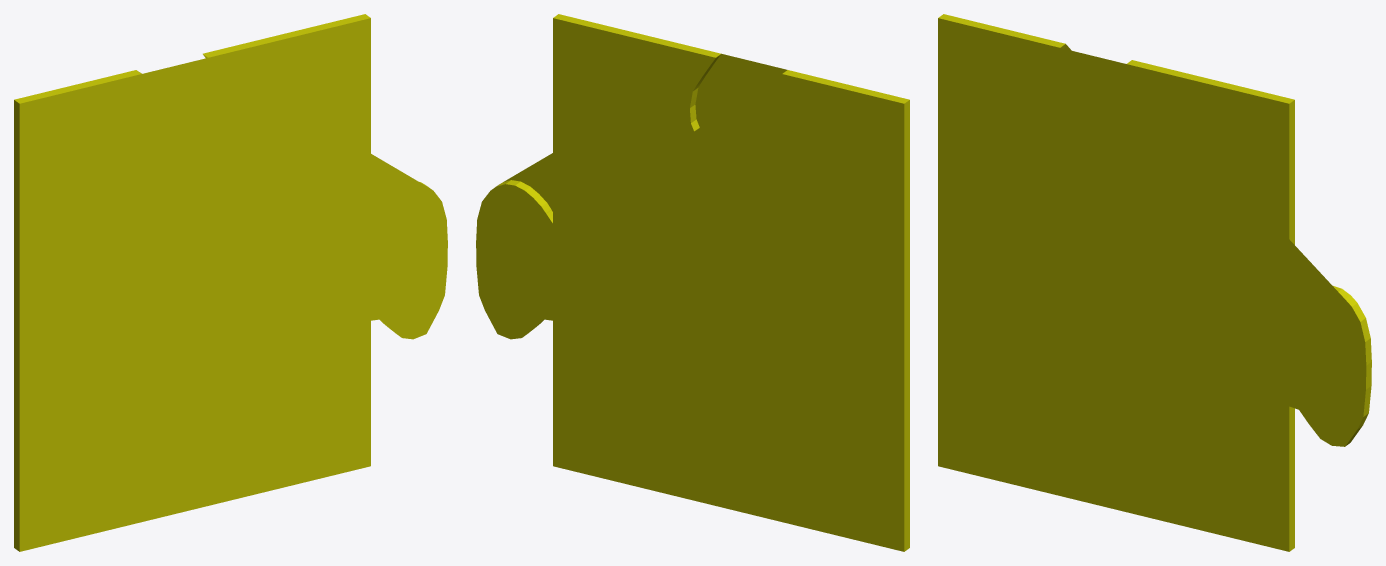
File: CornerPiece.obj
3 views of the same model, side by side, from view 1: azimuth 30°, elevation 25°; view 2: azimuth 150°, elevation 25°; view 3: azimuth 330°, elevation 25° (orthographic).
Visible parts, largest first — view 1: Cap_1, Extrude; view 2: Cap_2, Extrude, Cap_1; view 3: Cap_1, Extrude.
Part boxes in pixels (x1,y1,x2,y2): Cap_1: [19, 18, 447, 551]; Extrude: [14, 14, 430, 551]; Cap_2: [476, 18, 904, 551]; Extrude: [493, 14, 909, 551]; Cap_1: [504, 53, 786, 211]; Cap_1: [938, 18, 1366, 551]; Extrude: [938, 14, 1371, 551].
Size of the model in its own units: 0.6978 by 0.6978 by 0.0158.
